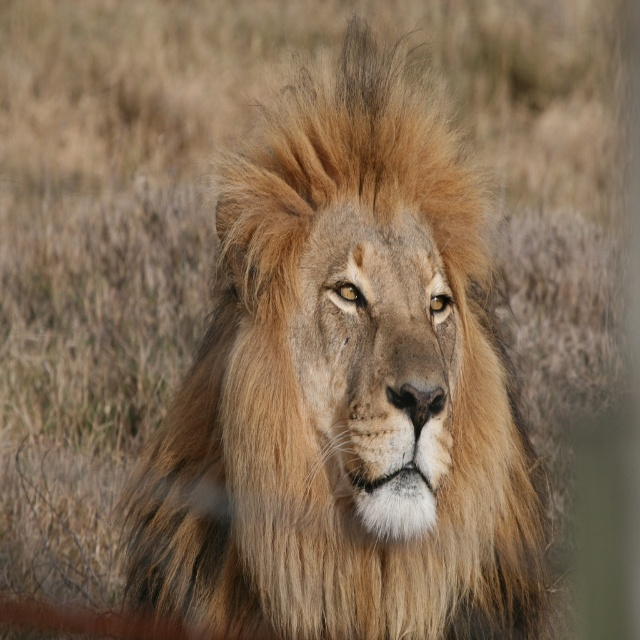Lion: (108, 3, 575, 639)
